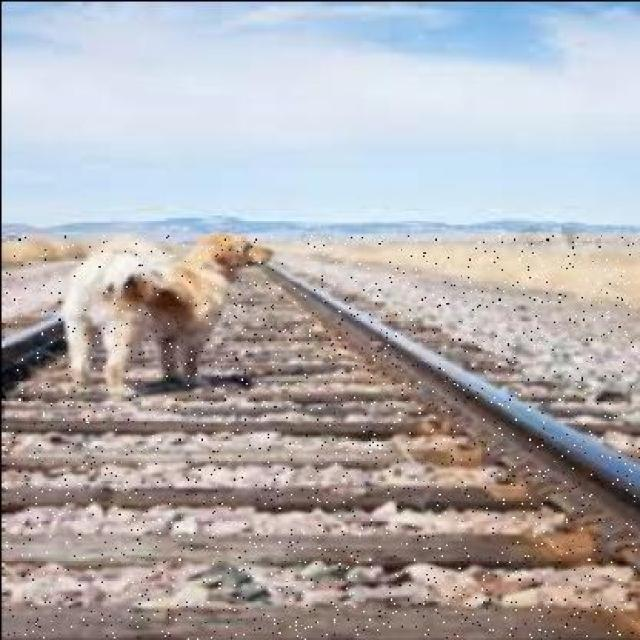rail: (5, 234, 640, 639)
